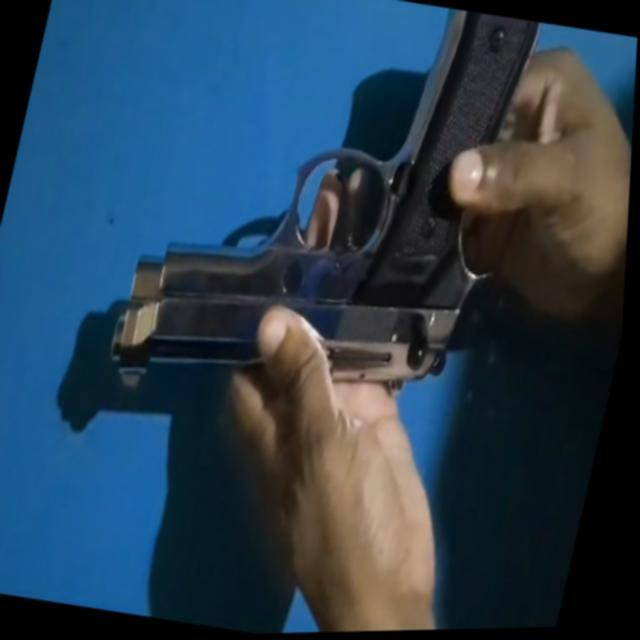weapon: (102, 0, 551, 446)
